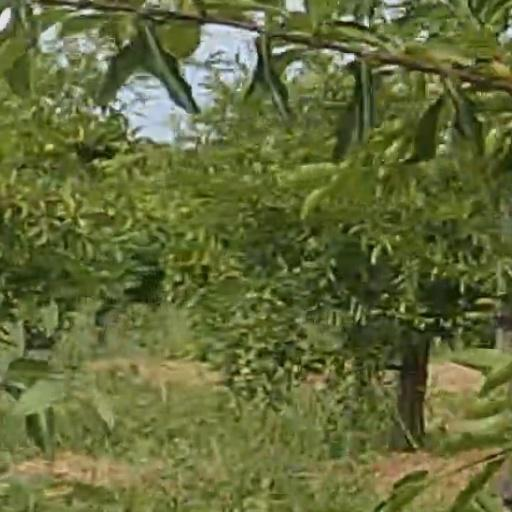acerola_verde: (160, 20, 198, 56)
